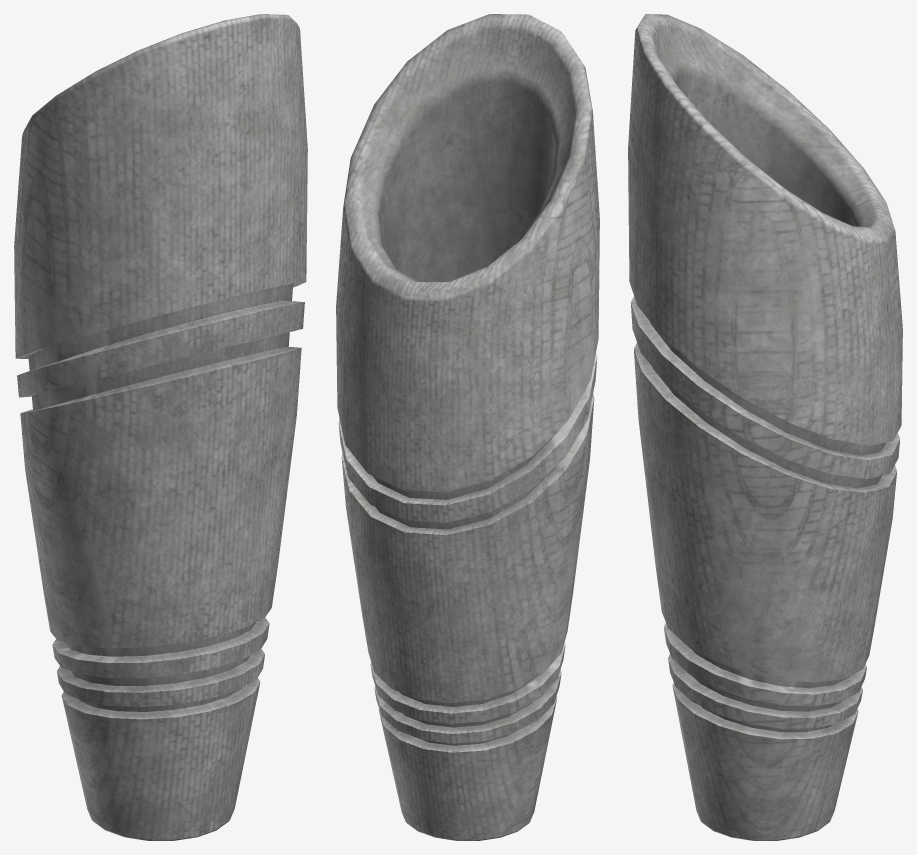
3 renders of one model, left to right at view 1: azimuth 30°, elevation 25°; view 2: azimuth 150°, elevation 25°; view 3: azimuth 270°, elevation 25°, orthographic. The views are drawn at different scales.
Parts seen in each view (by area): view 1: vase3_LOW; view 2: vase3_LOW; view 3: vase3_LOW.
Boxes of the visible parts, bbox=[...] form: vase3_LOW: bbox=[14, 14, 307, 840]; vase3_LOW: bbox=[336, 14, 599, 840]; vase3_LOW: bbox=[628, 14, 902, 840].
Bounding box in the file's own units: 1.87 × 6 × 1.9.
1 material, 1 textured.
